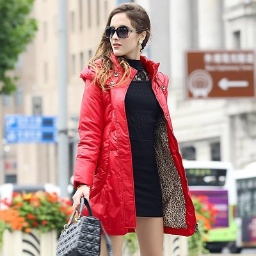face: (94, 2, 159, 63)
